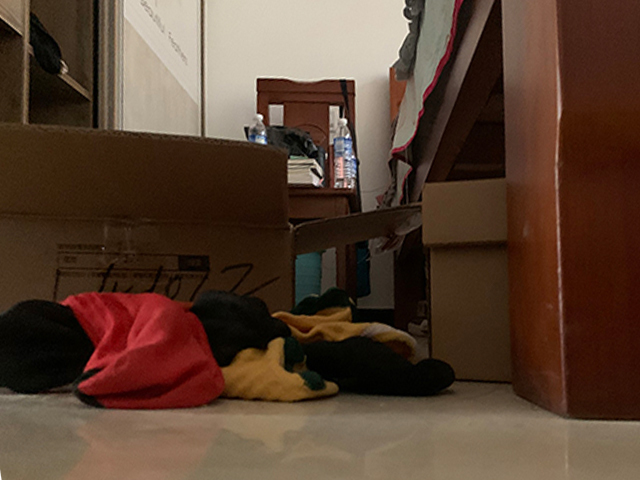bed: (378, 1, 640, 422)
socks: (1, 287, 457, 411)
